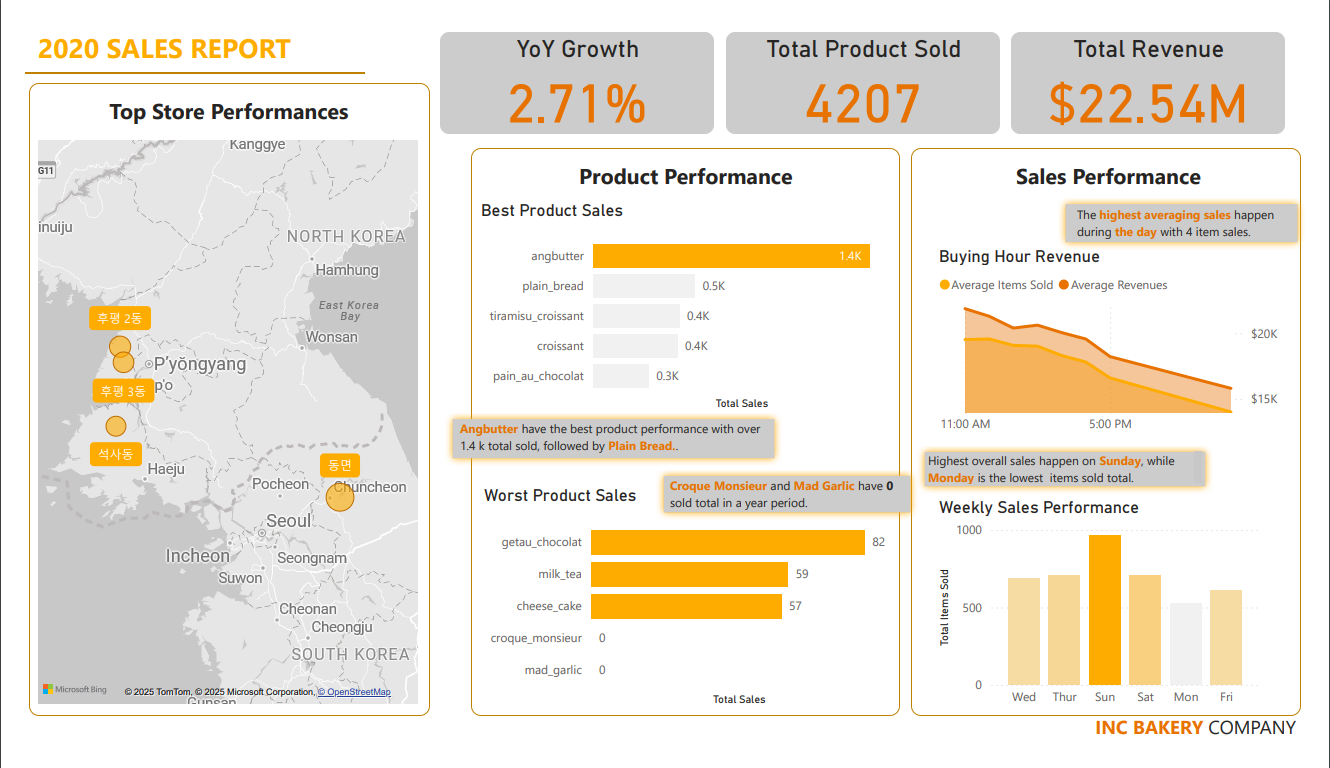

The dashboard page shown, as its layout file describes it:
{"tool":"powerbi","page":{"name":"2020 Report","canvas":[1280,720],"ordinal":1},"visuals":[{"type":"shape","box":[886.4,123.6,390,568.2],"z":0},{"type":"shape","box":[446.4,123.6,428.2,568.2],"z":1000},{"type":"shape","box":[3.6,59.1,400.9,632.7],"z":2000},{"type":"textbox","box":[8,0,412,49],"z":3000},{"type":"shape","box":[0,39,340,20],"z":4000},{"type":"textbox","box":[1001.8,685.5,274.5,34.5],"z":5000},{"type":"card","title":"Total Revenue","fields":{"Values":["Sum(public sales.total)"]},"box":[985,7,276,104],"z":6000},{"type":"card","title":"Total Product Sold","fields":{"Values":["Sum(public sales.total_items)"]},"box":[700,7,276,104],"z":7000},{"type":"map","title":"Top 5 Buyer Origin","fields":{"Category":["public sales.place"],"Size":["Sum(public sales.total)"]},"box":[8,111,390,574],"z":8000},{"type":"lineClusteredColumnComboChart","title":"Weekly Sales Performance","fields":{"Category":["public sales.day_of_week"],"Y":["Sum(public sales.total_items)"]},"box":[909.1,472.7,330,218.2],"z":9000},{"type":"card","title":"YoY Growth","fields":{"Values":["public sales.total YoY%"]},"box":[413.6,7.4,276.4,103.6],"z":10000},{"type":"shape","box":[892.4,420.4,295.3,50],"z":11000},{"type":"textbox","box":[898.2,421.8,283.6,43.6],"z":12000},{"type":"textbox","box":[59.1,67.3,290,40.9],"z":13000},{"type":"clusteredBarChart","title":"Best Product Sales","fields":{"Category":["Total_Item_Sold.Item"],"Y":["Sum(Total_Item_Sold.Total_Sold)"]},"box":[450.9,176.4,420,213.6],"z":14000},{"type":"clusteredBarChart","title":"Worst Product Sales","fields":{"Category":["Total_Item_Sold.Item"],"Y":["Sum(Total_Item_Sold.Total_Sold)"]},"box":[453.6,461,414.5,224.5],"z":15000},{"type":"textbox","box":[543.6,131.8,234.5,40.9],"z":16000},{"type":"shape","box":[630.9,443.6,261.8,52.7],"z":17000},{"type":"textbox","box":[640,447.3,253.6,50],"z":18000},{"type":"shape","box":[420,387.3,337.3,54.5],"z":19000},{"type":"textbox","box":[430,390,315,58],"z":20000},{"type":"areaChart","title":"Buying Hour Revenue ","fields":{"Category":["public sales.buy_hour"],"Y":["Avg(public sales.total_items)"],"Y2":["Avg(public sales.total)"]},"box":[909.1,221.8,349.1,196.4],"z":21000},{"type":"textbox","box":[966.4,131.8,234.5,40.9],"z":22000},{"type":"shape","box":[1032.7,171.8,247.3,54.5],"z":23000},{"type":"textbox","box":[1047.3,176.4,232.7,51.8],"z":24000}]}

Visuals, with their boxes in screenshot pixels (x1, y1, x2, y2), scaled from the page's 1280x720 canvas onto the 1330x768 screenshot:
shape: bbox=(921, 132, 1326, 738)
shape: bbox=(464, 132, 909, 738)
shape: bbox=(4, 63, 420, 738)
textbox: bbox=(8, 0, 436, 52)
shape: bbox=(0, 42, 353, 63)
textbox: bbox=(1041, 731, 1326, 767)
"Total Revenue" card: bbox=(1023, 7, 1310, 118)
"Total Product Sold" card: bbox=(727, 7, 1014, 118)
"Top 5 Buyer Origin" map: bbox=(8, 118, 414, 731)
"Weekly Sales Performance" lineClusteredColumnComboChart: bbox=(945, 504, 1288, 737)
"YoY Growth" card: bbox=(430, 8, 717, 118)
shape: bbox=(927, 448, 1234, 502)
textbox: bbox=(933, 450, 1228, 496)
textbox: bbox=(61, 72, 363, 115)
"Best Product Sales" clusteredBarChart: bbox=(469, 188, 905, 416)
"Worst Product Sales" clusteredBarChart: bbox=(471, 492, 902, 731)
textbox: bbox=(565, 141, 808, 184)
shape: bbox=(656, 473, 928, 529)
textbox: bbox=(665, 477, 929, 530)
shape: bbox=(436, 413, 787, 471)
textbox: bbox=(447, 416, 774, 478)
"Buying Hour Revenue " areaChart: bbox=(945, 237, 1307, 446)
textbox: bbox=(1004, 141, 1248, 184)
shape: bbox=(1073, 183, 1329, 241)
textbox: bbox=(1088, 188, 1329, 243)
